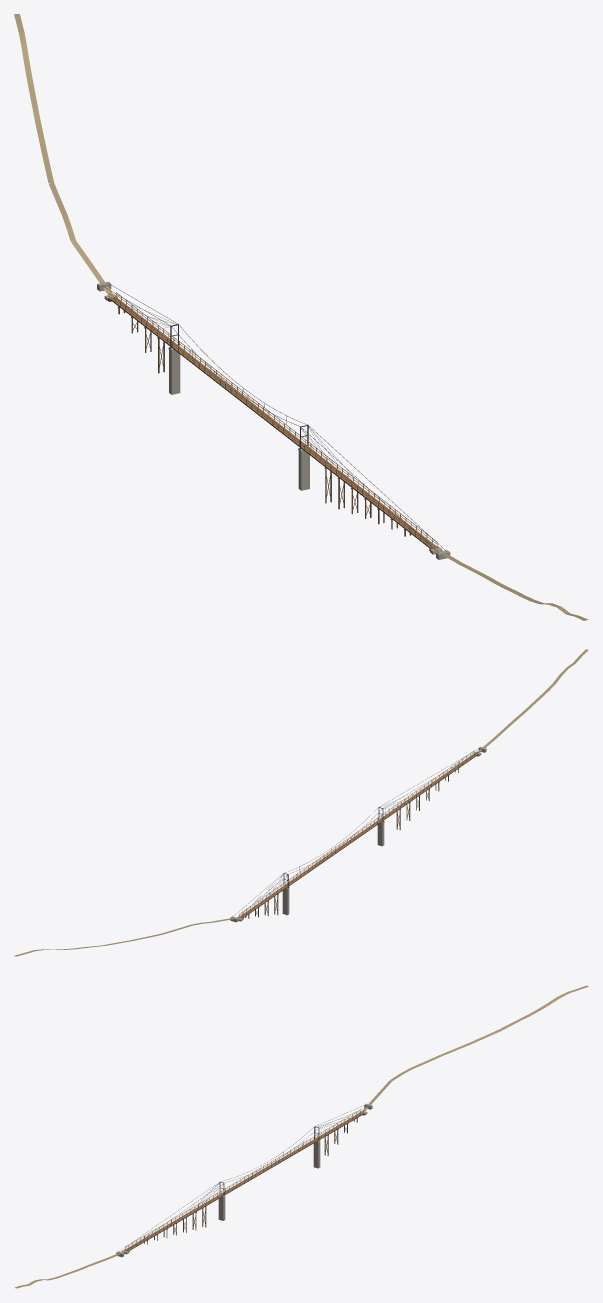
Rendered from hillcrest-footbridge-1913.glb.
3 views of the same model, one above another, from view 1: azimuth 30°, elevation 25°; view 2: azimuth 150°, elevation 25°; view 3: azimuth 330°, elevation 25° (orthographic). The views are drawn at different scales.
Visible parts, largest first — view 1: hillcrest_dirt, hillcrest_plank, hillcrest_rail, hillcrest_conc, hillcrest_cable, hillcrest_timber; view 2: hillcrest_rail, hillcrest_plank, hillcrest_dirt, hillcrest_conc, hillcrest_timber, hillcrest_cable; view 3: hillcrest_dirt, hillcrest_rail, hillcrest_plank, hillcrest_conc, hillcrest_timber, hillcrest_cable, hillcrest_steel.
Part boxes in pixels (x1,y1,x2,y2): hillcrest_dirt: (14, 14, 588, 620); hillcrest_plank: (110, 297, 437, 548); hillcrest_rail: (109, 292, 437, 547); hillcrest_conc: (97, 281, 450, 559); hillcrest_cable: (100, 283, 446, 552); hillcrest_timber: (108, 296, 438, 550); hillcrest_rail: (239, 750, 477, 917); hillcrest_plank: (239, 753, 477, 917); hillcrest_dirt: (14, 649, 588, 956); hillcrest_conc: (230, 746, 486, 922); hillcrest_timber: (238, 753, 478, 919); hillcrest_cable: (233, 748, 483, 917); hillcrest_dirt: (14, 985, 588, 1288); hillcrest_rail: (125, 1109, 363, 1250); hillcrest_plank: (125, 1112, 363, 1250); hillcrest_conc: (116, 1103, 372, 1257); hillcrest_timber: (124, 1112, 364, 1252); hillcrest_cable: (119, 1105, 368, 1252); hillcrest_steel: (129, 1114, 363, 1250).
Size of the model in its own units: 47.5 by 27.08 by 311.
